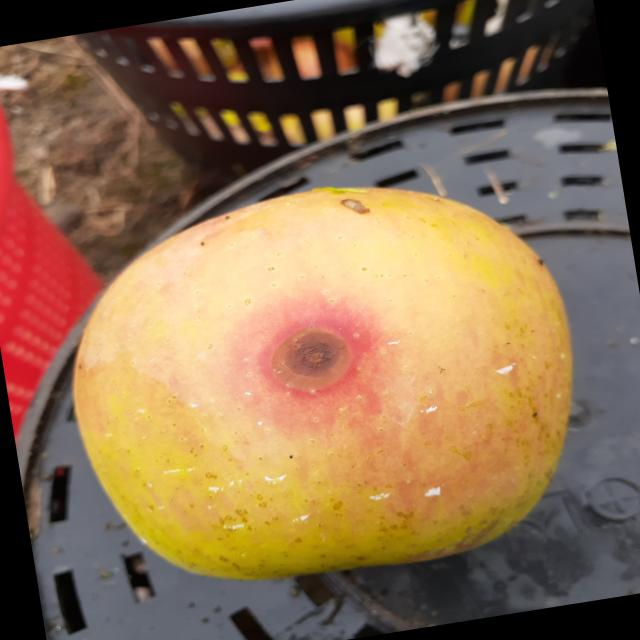rotten: (29, 135, 628, 629)
